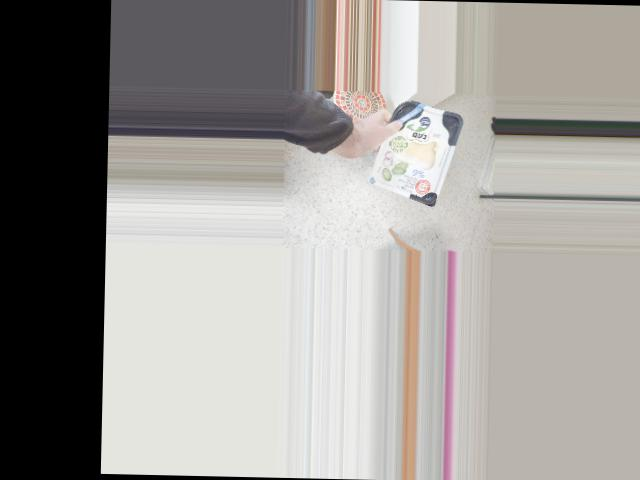cheese: (370, 99, 464, 207)
